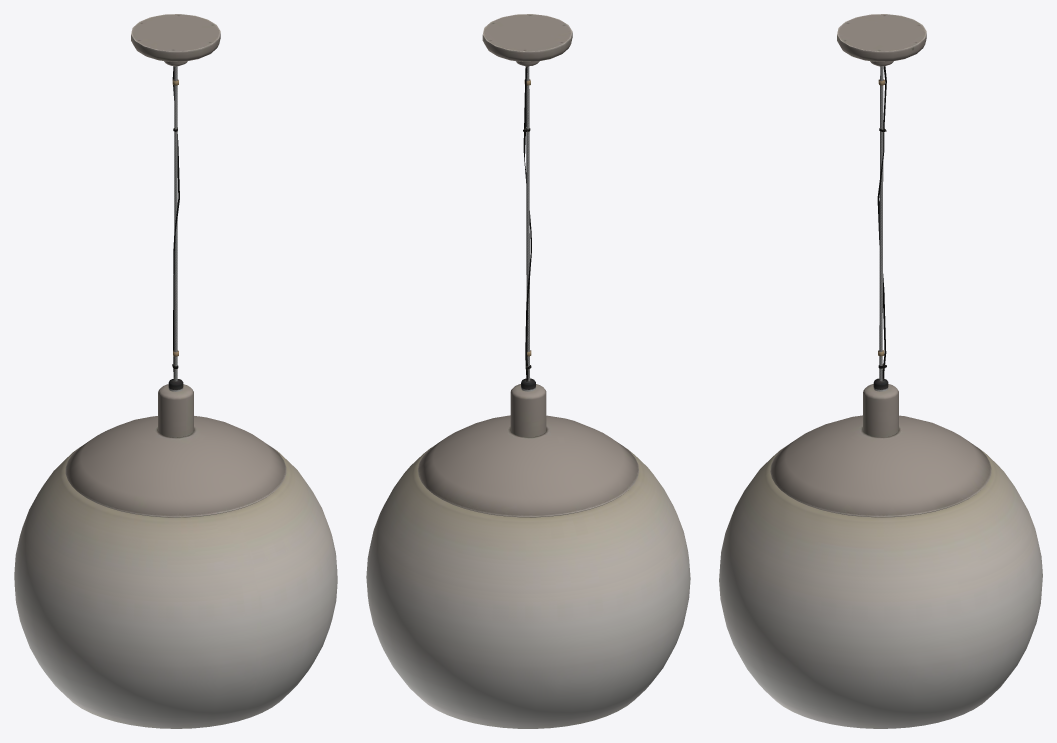
The model's file is modern_ceiling_lamp_01.glb.
The picture shows the model from 3 angles, left to right: view 1: azimuth 30°, elevation 25°; view 2: azimuth 150°, elevation 25°; view 3: azimuth 270°, elevation 25°; orthographic projection.
Parts seen in each view (by area): view 1: modern_ceiling_lamp_01; view 2: modern_ceiling_lamp_01; view 3: modern_ceiling_lamp_01.
Boxes of the visible parts, box(x1,y1,x2,y2) form: modern_ceiling_lamp_01: box(14, 14, 337, 728); modern_ceiling_lamp_01: box(366, 14, 690, 728); modern_ceiling_lamp_01: box(719, 14, 1042, 728).
Size of the model in its own units: 0.4316 by 0.9512 by 0.4316.
Materials: 2 (2 with a texture image).
